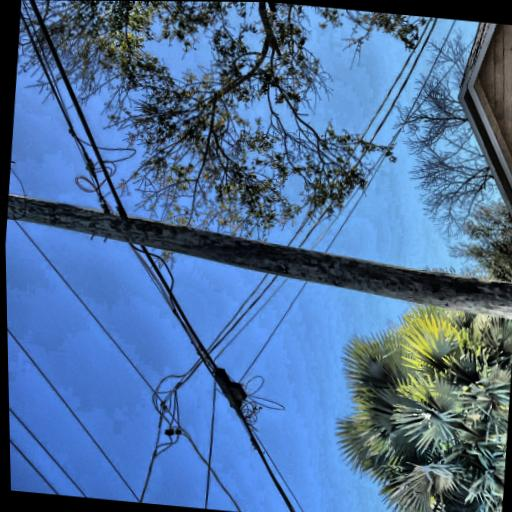pole: (40, 0, 221, 507)
street light: (30, 0, 172, 142)
